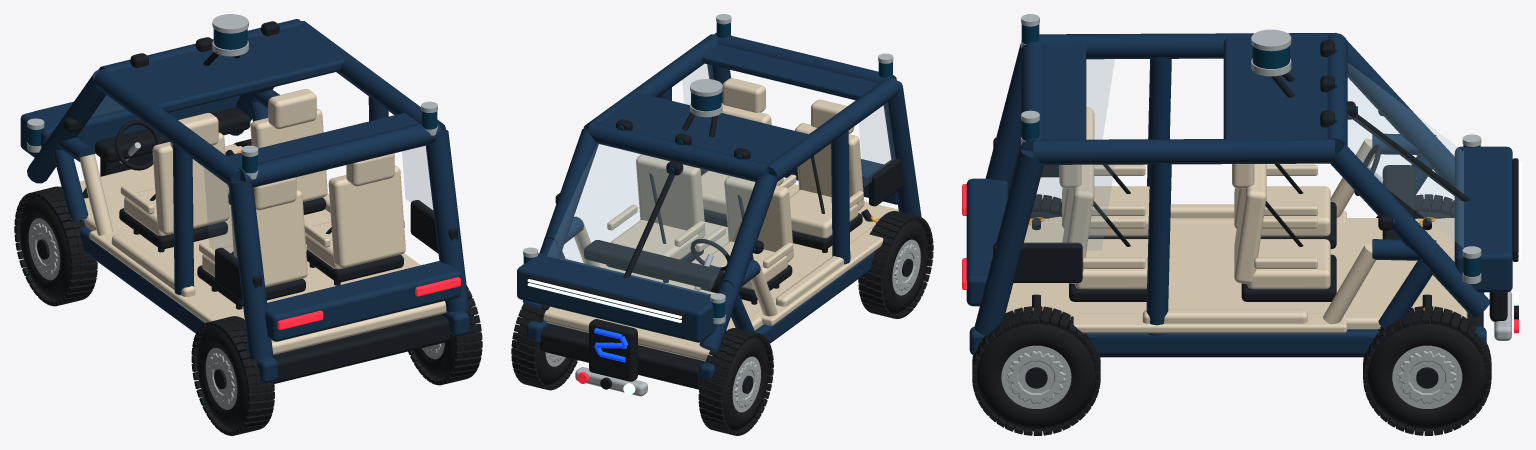
Rendered from reference-rover.glb.
3 views of the same model, side by side, from view 1: azimuth 30°, elevation 25°; view 2: azimuth 150°, elevation 25°; view 3: azimuth 270°, elevation 25° (orthographic). The views are drawn at different scales.
Visible parts, largest first — view 1: reference-rover, drive-wheel-1, drive-wheel-0, drive-wheel-3; view 2: reference-rover, drive-wheel-0, drive-wheel-1, drive-wheel-2; view 3: reference-rover, drive-wheel-2, drive-wheel-3, drive-wheel-0, drive-wheel-1.
Boxes of the visible parts, x1=… form: reference-rover: x1=20, y1=14, x2=469, y2=383; drive-wheel-1: x1=191, y1=316, x2=274, y2=435; drive-wheel-0: x1=14, y1=186, x2=97, y2=306; drive-wheel-3: x1=408, y1=285, x2=482, y2=385; reference-rover: x1=517, y1=14, x2=921, y2=396; drive-wheel-0: x1=698, y1=328, x2=773, y2=435; drive-wheel-1: x1=858, y1=211, x2=933, y2=318; drive-wheel-2: x1=511, y1=303, x2=577, y2=390; reference-rover: x1=962, y1=14, x2=1521, y2=357; drive-wheel-2: x1=1363, y1=306, x2=1491, y2=435; drive-wheel-3: x1=972, y1=306, x2=1100, y2=435; drive-wheel-0: x1=1376, y1=194, x2=1484, y2=293; drive-wheel-1: x1=1030, y1=194, x2=1061, y2=218.
Size of the model in its own units: 2.02 by 2.49 by 3.77.
